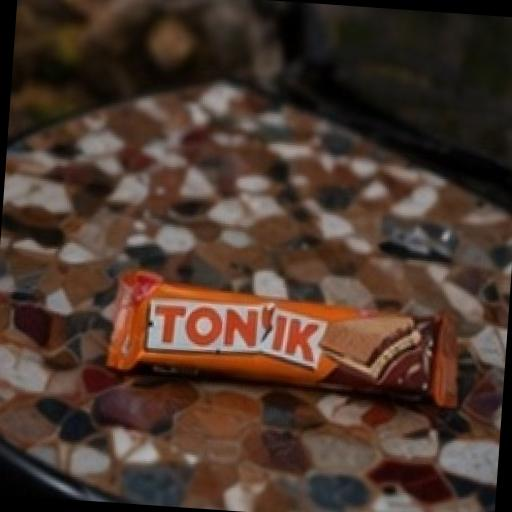tonik: (75, 180, 512, 511)
